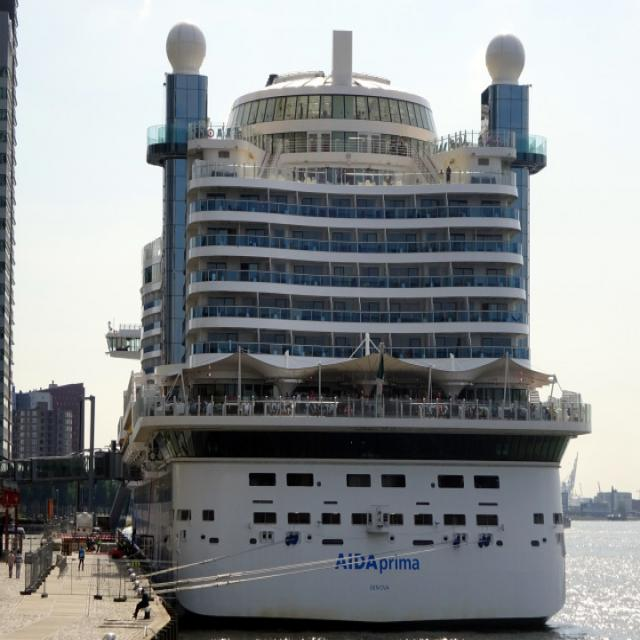cruises: (105, 10, 597, 640)
